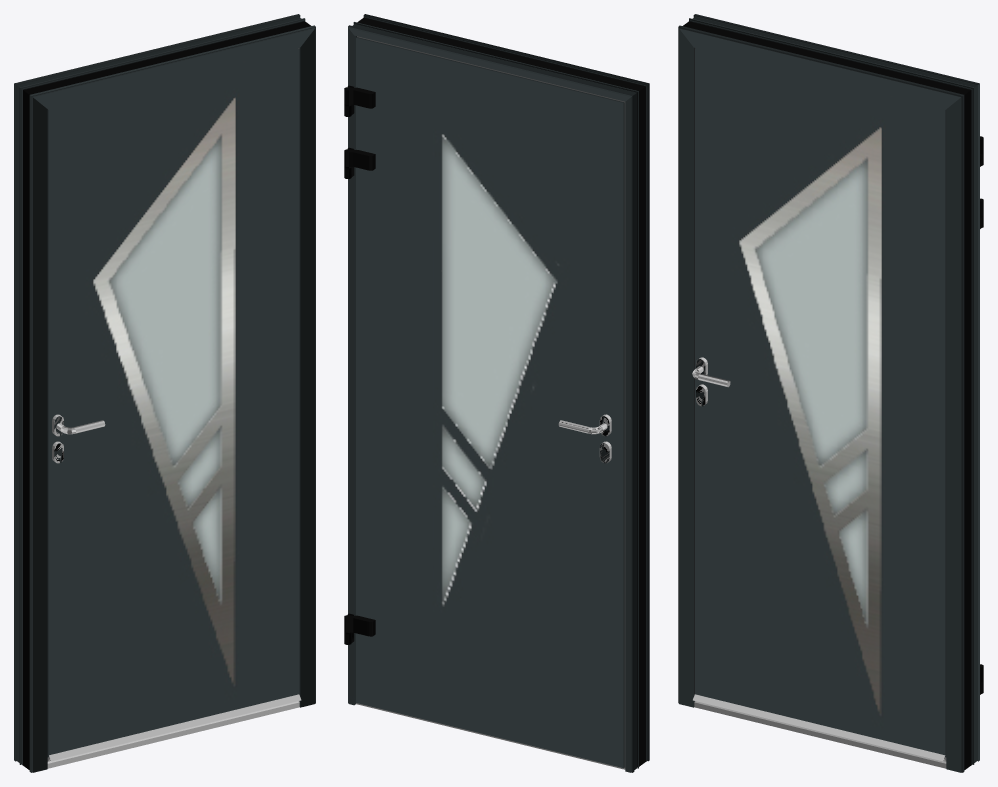
3 views of the same model, side by side, from view 1: azimuth 30°, elevation 25°; view 2: azimuth 150°, elevation 25°; view 3: azimuth 330°, elevation 25° (orthographic).
Parts seen in each view (by area): view 1: ouvrant, 105; view 2: ouvrant, 105; view 3: ouvrant, 105.
Part boxes in pixels (x1=…): ouvrant: x1=47, y1=48, x2=301, y2=761; 105: x1=14, y1=14, x2=315, y2=772; ouvrant: x1=344, y1=36, x2=625, y2=768; 105: x1=344, y1=14, x2=649, y2=772; ouvrant: x1=693, y1=48, x2=983, y2=761; 105: x1=678, y1=14, x2=983, y2=772.
Bounding box in the file's own units: 96 × 218 × 24.64.
Materials: 1 (1 with a texture image).
